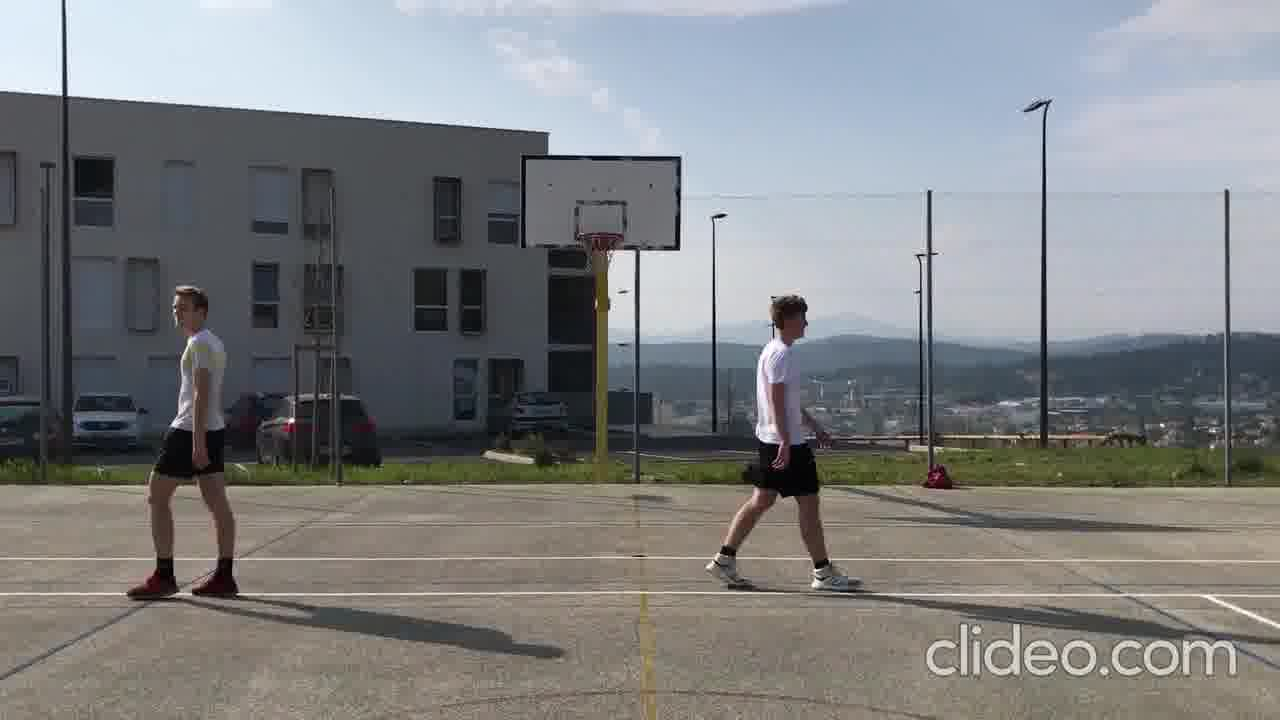jugador: (120, 273, 249, 612)
